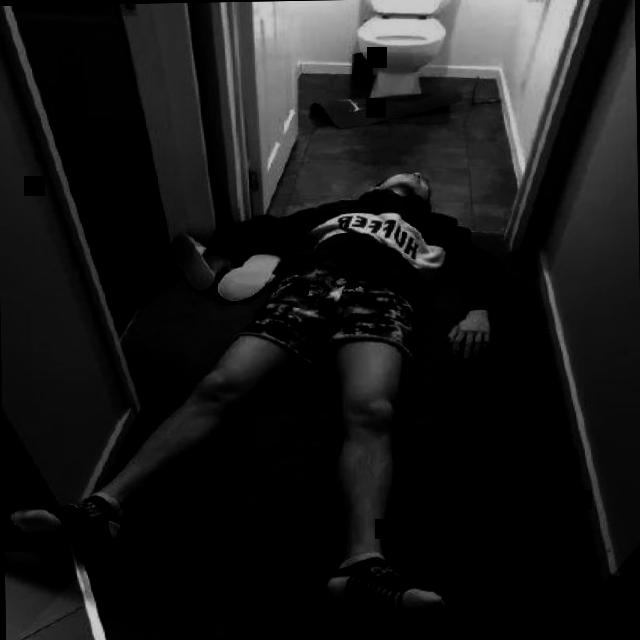Fall-Detected: (0, 164, 524, 626)
